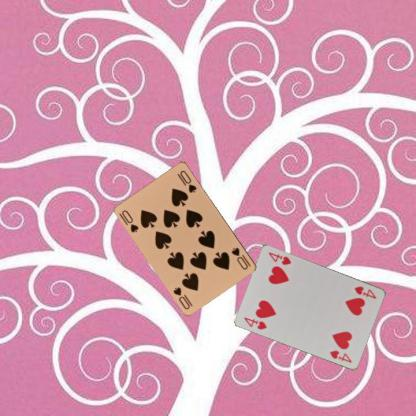10s: (229, 245, 252, 271), (119, 207, 140, 234)
4h: (352, 284, 378, 300), (242, 314, 268, 330)
